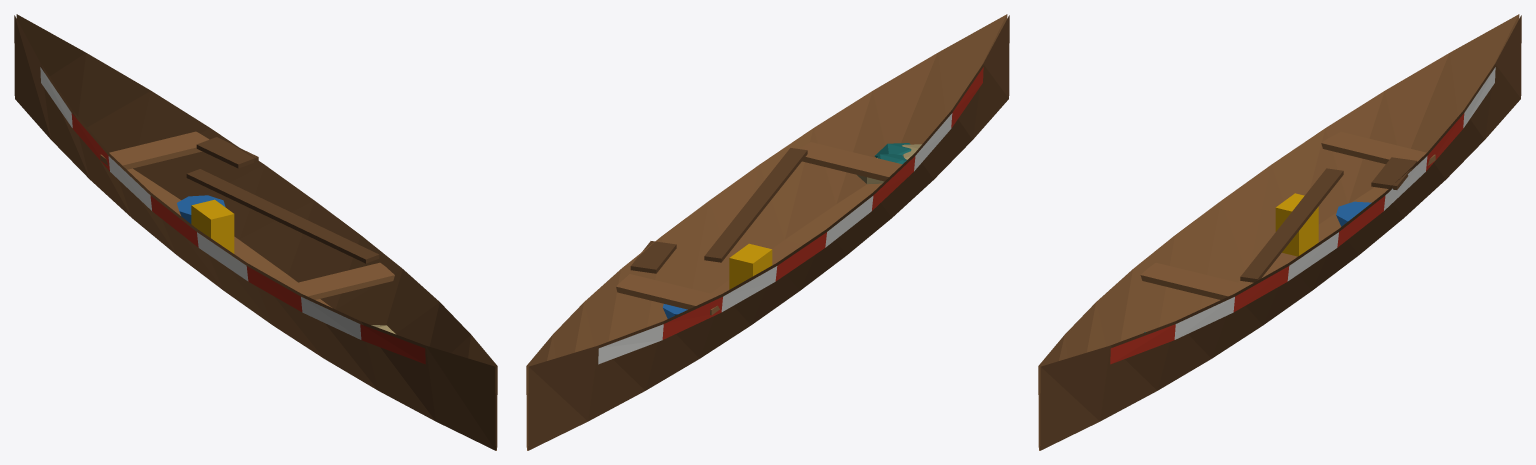
File: prop_canoe.glb
The picture shows the model from 3 angles, left to right: view 1: azimuth 30°, elevation 25°; view 2: azimuth 150°, elevation 25°; view 3: azimuth 330°, elevation 25°; orthographic projection.
Parts seen in each view (by area): view 1: body; view 2: body; view 3: body.
Boxes of the visible parts, x1,y1,x2,y2 form: body: (14,14,497,450); body: (526,14,1009,450); body: (1038,14,1521,450).
Size of the model in its own units: 0.9139 by 0.6799 by 6.4.
